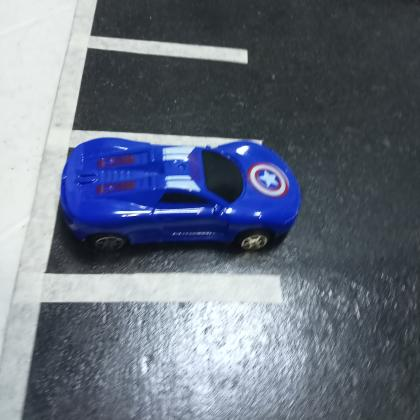Car: (56, 135, 302, 255)
